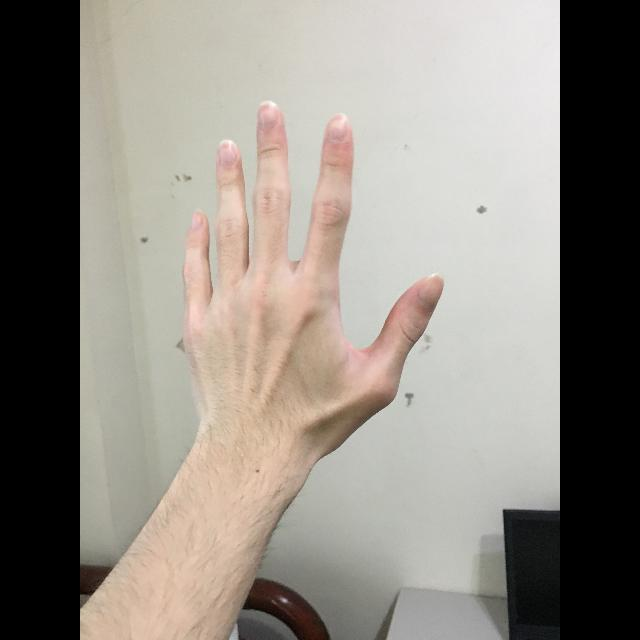bare_hand: (180, 99, 447, 435)
